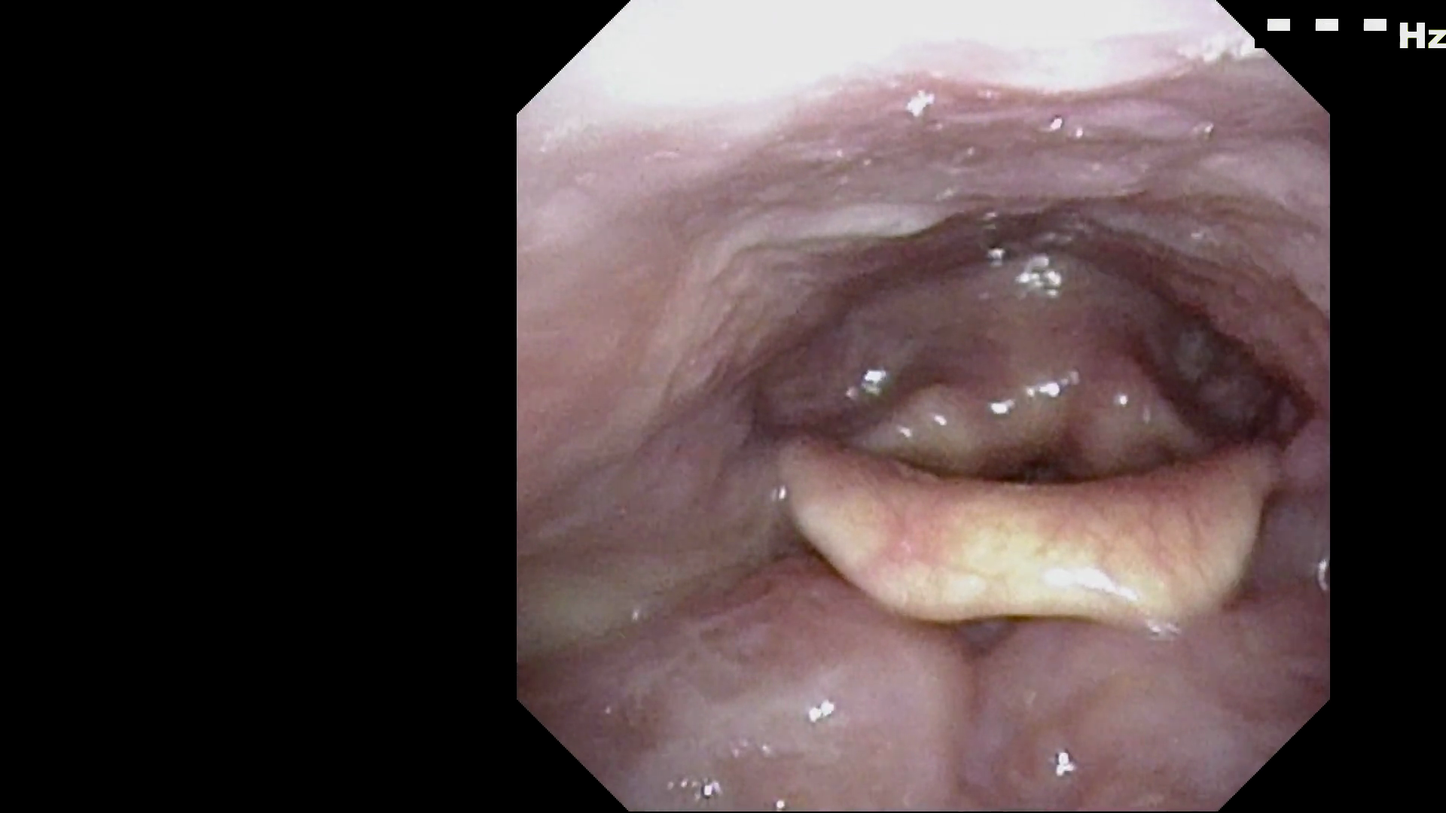epiglottis: (767, 388, 1301, 628)
trachea: (964, 383, 1110, 537)
